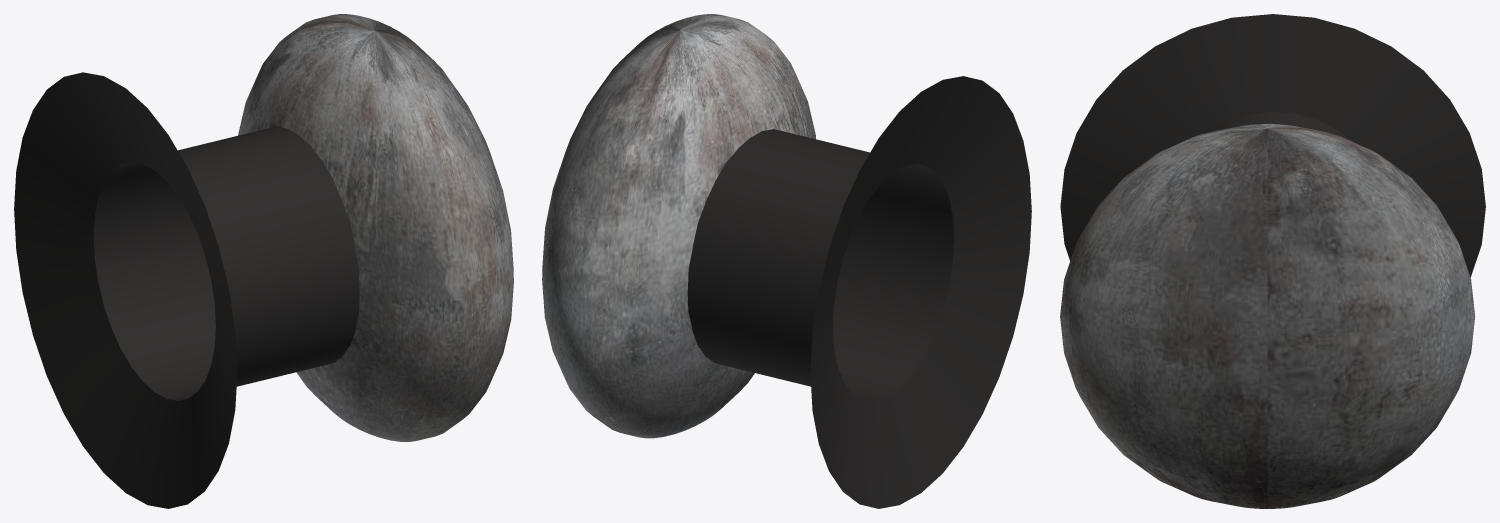
The model's file is CabinetHandle.fbx.
3 renders of one model, left to right at view 1: azimuth 30°, elevation 25°; view 2: azimuth 150°, elevation 25°; view 3: azimuth 270°, elevation 25°, orthographic. The views are drawn at different scales.
Parts seen in each view (by area): view 1: Circle.001; view 2: Circle.001; view 3: Circle.001.
Part boxes in pixels (x1,y1,x2,y2): Circle.001: [14, 14, 513, 508]; Circle.001: [542, 14, 1031, 508]; Circle.001: [1060, 14, 1485, 508].
Bounding box in the file's own units: 2.59 × 3.01 × 3.01.
Materials: 1 (1 with a texture image).
